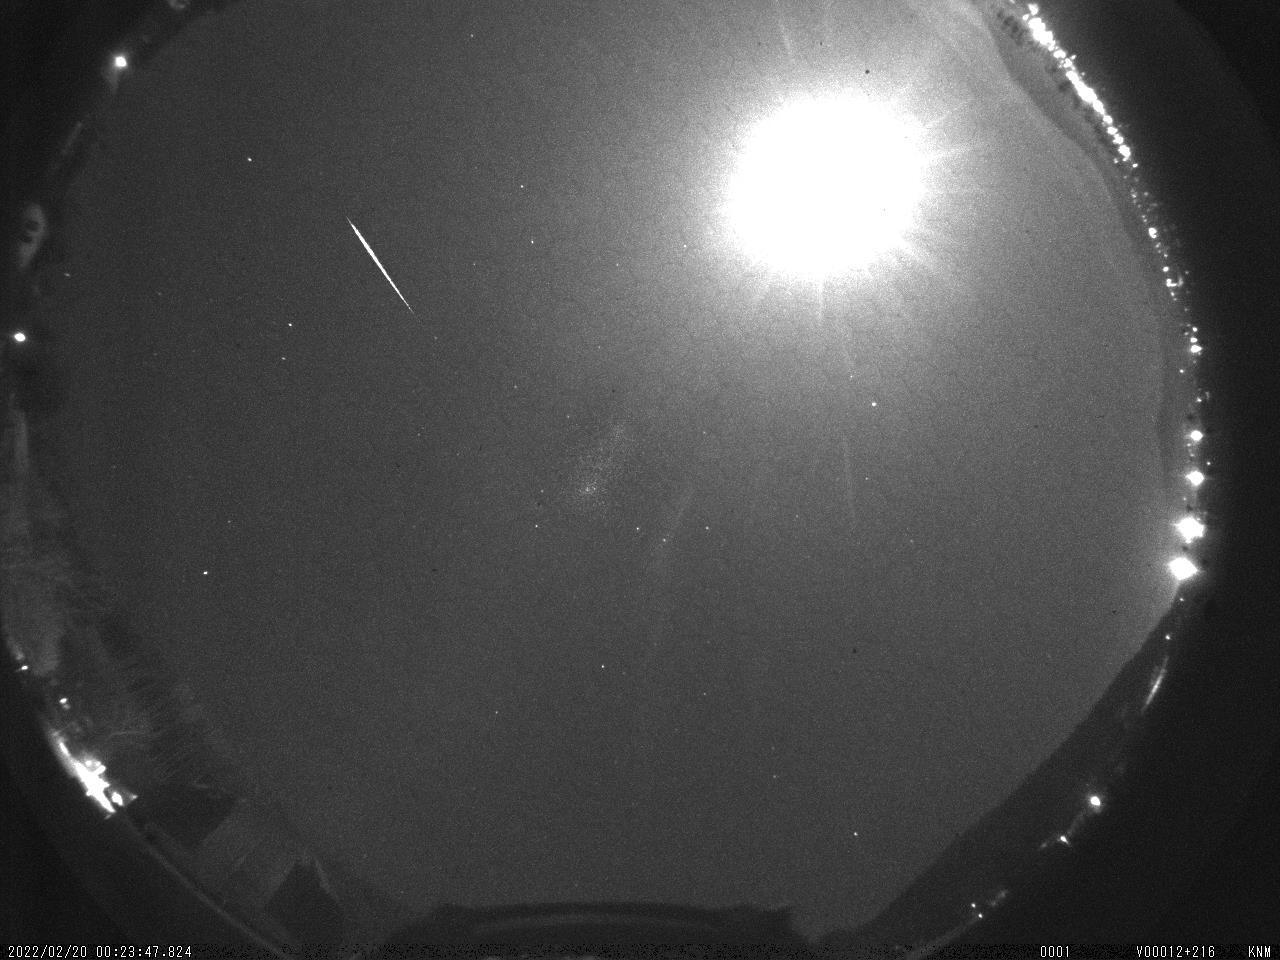Meteor: (346, 214, 419, 317)
